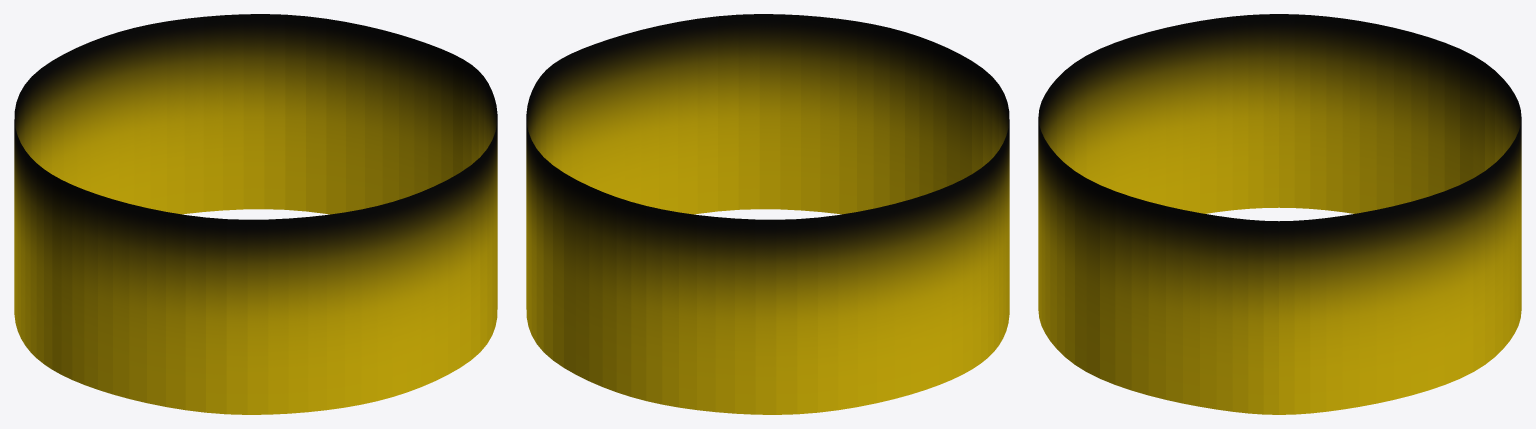
Rendered from Tutorial Indicator.fbx.
The picture shows the model from 3 angles, left to right: view 1: azimuth 30°, elevation 25°; view 2: azimuth 150°, elevation 25°; view 3: azimuth 270°, elevation 25°; orthographic projection.
Visible parts, largest first — view 1: Plane; view 2: Plane; view 3: Plane.
Part boxes in pixels (box(x1,y1,x2,y2)): Plane: box(14, 14, 497, 414); Plane: box(526, 14, 1009, 414); Plane: box(1038, 14, 1521, 414).
Size of the model in its own units: 632 by 275 by 622.
